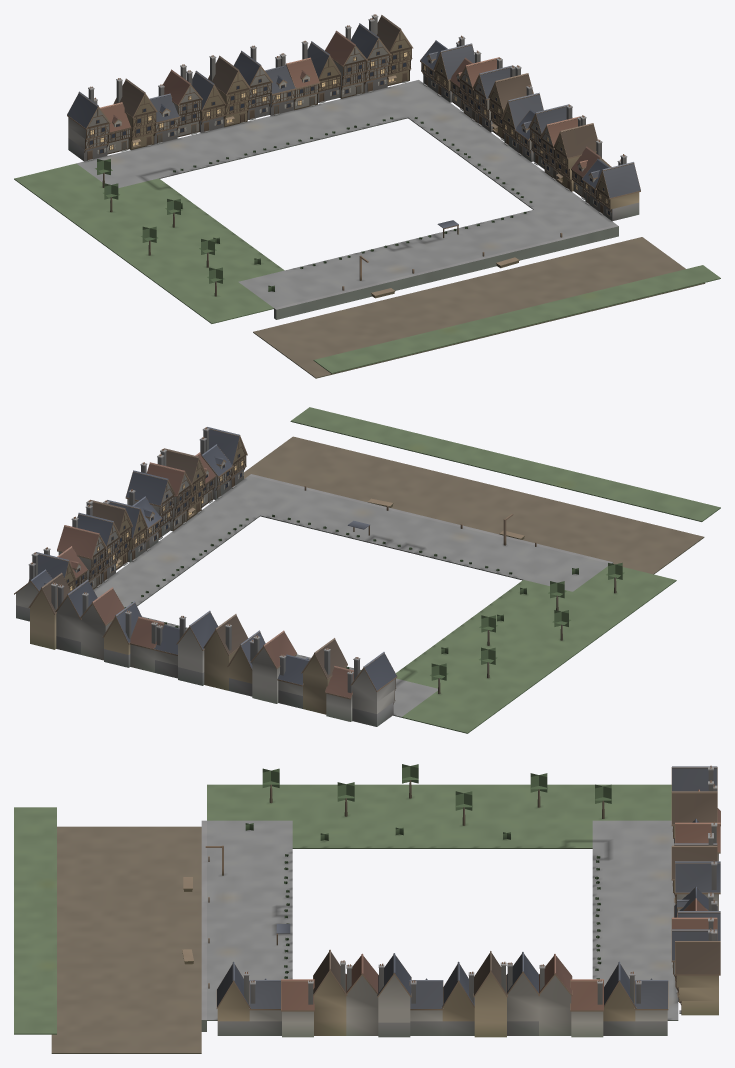
File: outside.glb
3 renders of one model, top to bottom at view 1: azimuth 30°, elevation 25°; view 2: azimuth 150°, elevation 25°; view 3: azimuth 270°, elevation 25°, orthographic. The views are drawn at different scales.
Visible parts, largest first — view 1: house_a.001, house_f.005, house_c.001, house_c.002, house_e.002, house_c.005, house_a.003, house_e.001, house_c.003, house_a.002, house_f.001, house_c.004 (+15 smaller); view 2: house_a.001, house_c.002, house_a.002, house_e.001, house_e.002, house_c.001, house_c.003, house_a.003, house_e.003, house_a.005, house_f.002, house_e.004 (+15 smaller); view 3: house_c.003, house_c.004, house_c.005, house_a.005, house_e.004, house_e.003, house_a.004, house_f.005, house_f.004, house_f.003, house_b.003, house_b.004 (+10 smaller).
Boxes of the visible parts, box(x1,y1,x2,y2) form: house_a.001: box(67, 86, 110, 161); house_f.005: box(595, 154, 640, 221); house_c.001: box(113, 78, 157, 149); house_c.002: box(208, 55, 250, 127); house_e.002: box(325, 25, 367, 98); house_c.005: box(553, 115, 597, 191); house_a.003: box(351, 18, 391, 92); house_e.001: box(163, 64, 202, 137); house_c.003: box(371, 14, 413, 85); house_a.002: box(233, 45, 272, 120); house_f.001: box(186, 70, 225, 132); house_c.004: box(488, 65, 533, 140); house_a.001: box(350, 652, 397, 726); house_c.002: box(203, 614, 248, 690); house_a.002: box(176, 610, 218, 685); house_e.001: box(250, 630, 297, 703); house_e.002: box(79, 587, 124, 660); house_c.001: box(301, 638, 347, 714); house_c.003: box(28, 572, 70, 649); house_a.003: box(55, 579, 97, 654); house_e.003: box(57, 516, 106, 589); house_a.005: box(125, 462, 175, 539); house_f.002: box(102, 601, 141, 667); house_e.004: box(146, 454, 192, 531); house_c.003: box(675, 929, 720, 1015); house_c.004: box(473, 951, 507, 1037); house_c.005: box(313, 949, 347, 1035); house_a.005: box(377, 953, 411, 1037); house_e.004: box(345, 953, 378, 1035); house_e.003: box(538, 954, 572, 1035); house_a.004: box(506, 952, 539, 1035); house_f.005: box(216, 961, 250, 1035); house_f.004: box(441, 961, 474, 1035); house_f.003: box(603, 961, 636, 1035); house_b.003: box(570, 979, 603, 1037); house_b.004: box(281, 979, 314, 1037).
Bounding box in the file's own units: 112 × 19.28 × 132.
